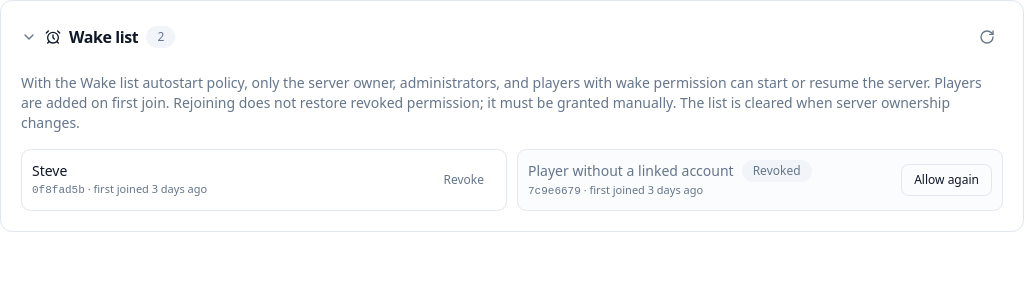
Test: WakeListSection › revokes and restores in place, reading the list again after each change
This screenshot has width=1024, height=281.
Expected: the text "Steve" is shown, [32,161,67,181]
Click the button with aria-label "Take away Steve's right to wake the server": point(464, 180) [432,164,496,196]
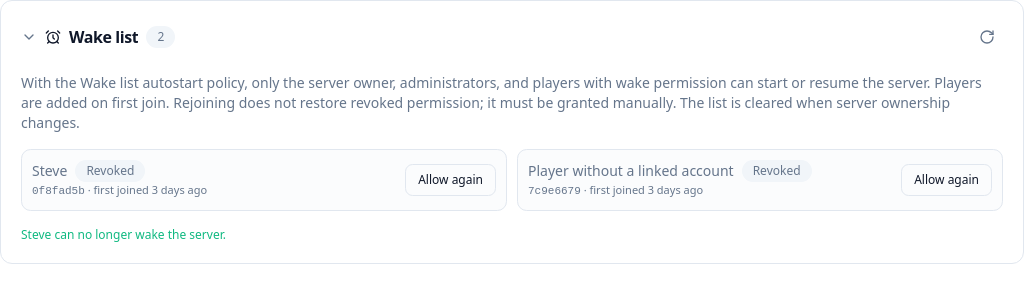
Now the message reads "Steve can no longer wake the server.", box [21,226,226,242]
Now the 1st text "Revoked" is shown, box [75,160,145,182]
Click the button named "Allow Player without a linked account to wake the server again": point(947, 180) [901,164,992,196]
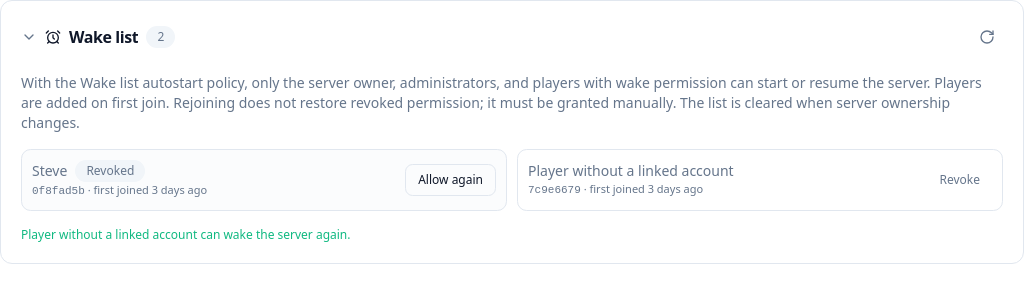
Now the message reads "Player without a linked account can wake the server again.", box [21,226,350,242]
